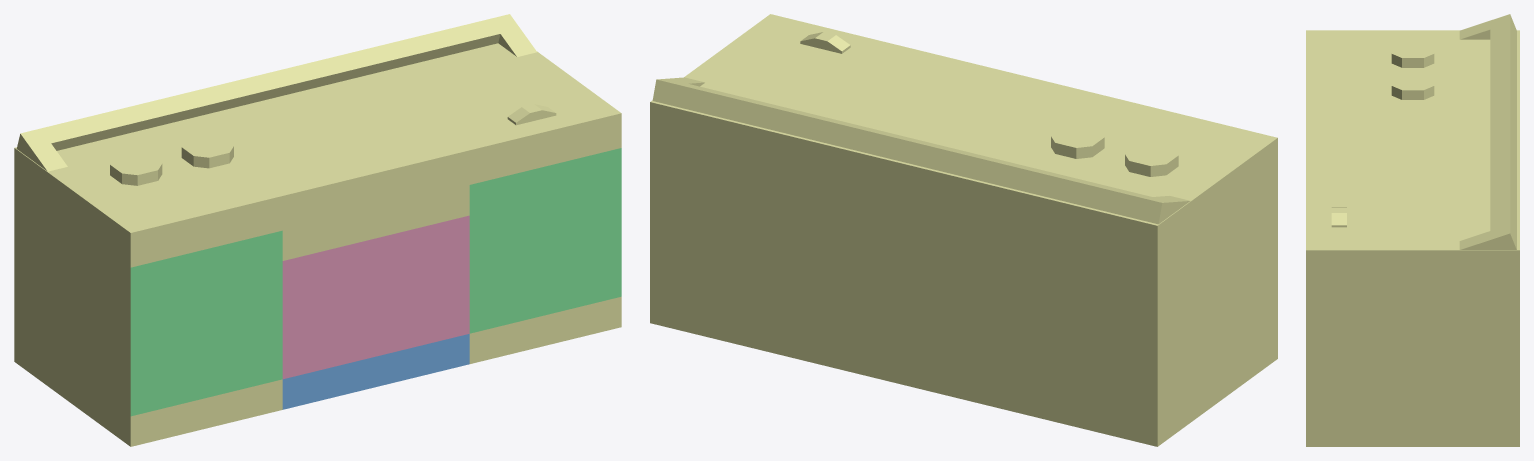
The model's file is boombox.gltf.
3 renders of one model, left to right at view 1: azimuth 30°, elevation 25°; view 2: azimuth 150°, elevation 25°; view 3: azimuth 270°, elevation 25°, orthographic. The views are drawn at different scales.
Visible parts, largest first — view 1: Boombox; view 2: Boombox; view 3: Boombox.
Part boxes in pixels (x1,y1,x2,y2): Boombox: [14, 14, 621, 446]; Boombox: [650, 14, 1277, 446]; Boombox: [1306, 14, 1519, 446].
Bounding box in the file's own units: 0.5 × 0.2259 × 0.2053.
